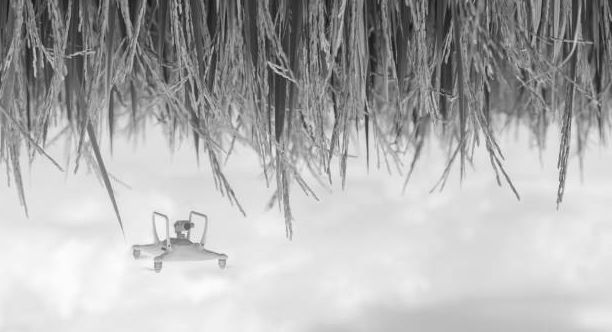Drone: (114, 205, 240, 276)
